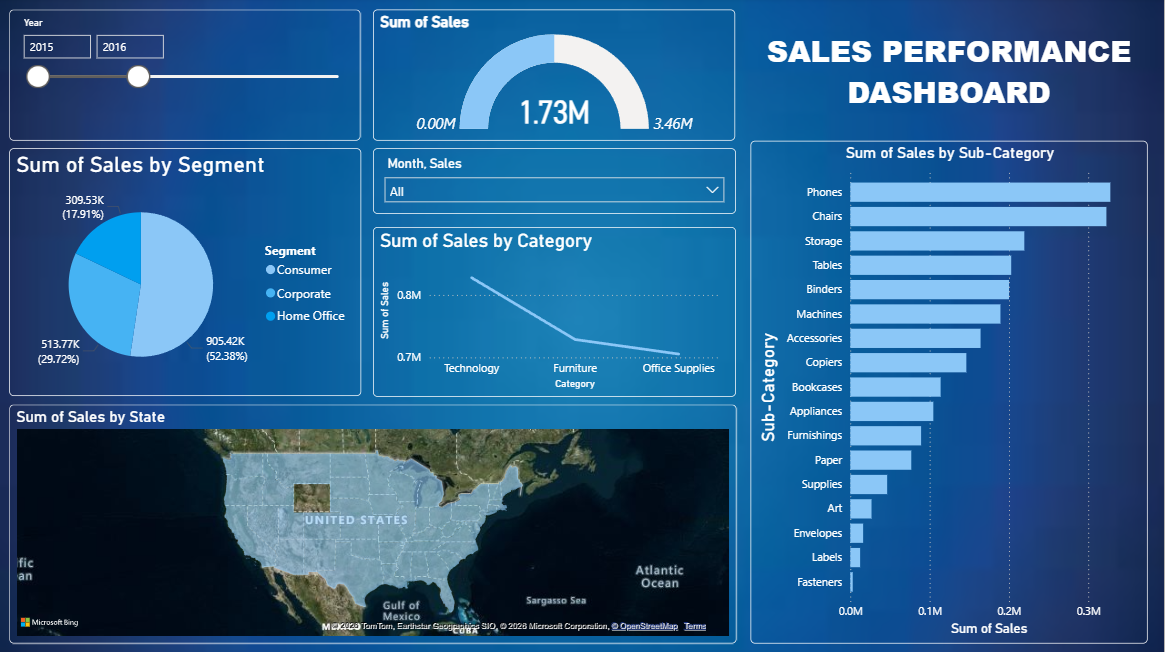

The page's visual inventory and layout, read from the dashboard file:
{"tool":"powerbi","page":{"name":"Page 1","canvas":[1280,720],"ordinal":0},"visuals":[{"type":"clusteredBarChart","fields":{"Y":["Sum(train.Sales)"],"Category":["train.Sub-Category"]},"box":[826.1,157.8,436.4,551.6],"z":0},{"type":"lineChart","fields":{"Category":["train.Category"],"Y":["Sum(train.Sales)"]},"box":[412,252,398,186],"z":1000},{"type":"pieChart","fields":{"Category":["train (2).Segment"],"Y":["Sum(train (2).Sales)"]},"box":[12,166,386,272],"z":2000},{"type":"slicer","fields":{"Values":["train (2).Order Date.Variation.Date Hierarchy.Year"]},"box":[12.3,13.7,385.6,144.1],"z":4000},{"type":"slicer","fields":{"Values":["train (2).Order Date.Variation.Date Hierarchy.Month","train (2).Sales"]},"box":[412,166,398,72],"z":5000},{"type":"filledMap","fields":{"Category":["train (2).State"]},"box":[12,448,798,262],"z":6000},{"type":"textbox","box":[826,14,436,144],"z":7000},{"type":"gauge","fields":{"Y":["Sum(train (2).Sales)"]},"box":[411.7,13.7,397.9,144.1],"z":7001}]}

Visuals, with their boxes in screenshot pixels (x1, y1, x2, y2), scaled from the page's 1280x720 canvas onto the 1165x652 screenshot:
clusteredBarChart - Sum(train.Sales) x train.Sub-Category: [left=752, top=143, right=1149, bottom=642]
lineChart - train.Category x Sum(train.Sales): [left=375, top=228, right=737, bottom=397]
pieChart - train (2).Segment x Sum(train (2).Sales): [left=11, top=150, right=362, bottom=397]
slicer - train (2).Order Date.Variation.Date Hierarchy.Year: [left=11, top=12, right=362, bottom=143]
slicer - train (2).Order Date.Variation.Date Hierarchy.Month x train (2).Sales: [left=375, top=150, right=737, bottom=216]
filledMap - train (2).State: [left=11, top=406, right=737, bottom=643]
textbox: [left=752, top=13, right=1149, bottom=143]
gauge - Sum(train (2).Sales): [left=375, top=12, right=737, bottom=143]
